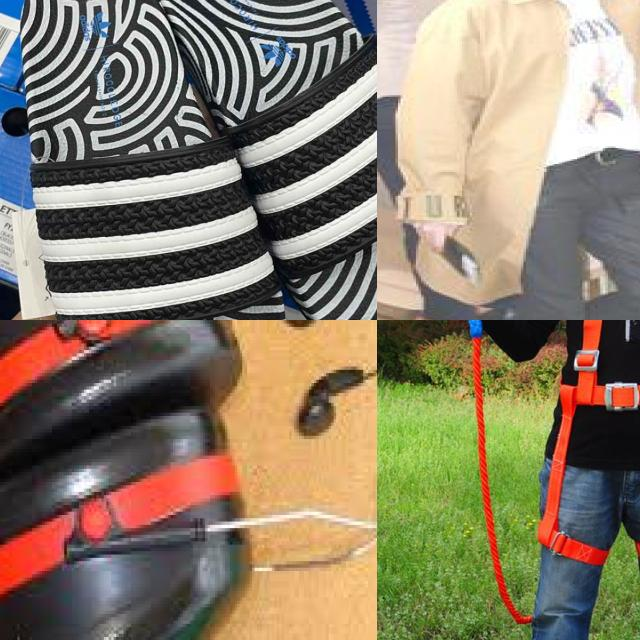Ear-protection: (0, 442, 257, 640), (0, 320, 227, 462)
Harness: (545, 320, 640, 565)
Sandals: (0, 0, 377, 320)
hand_noglove: (399, 214, 461, 256)
person: (377, 0, 640, 320)
shoes: (377, 307, 475, 320)
